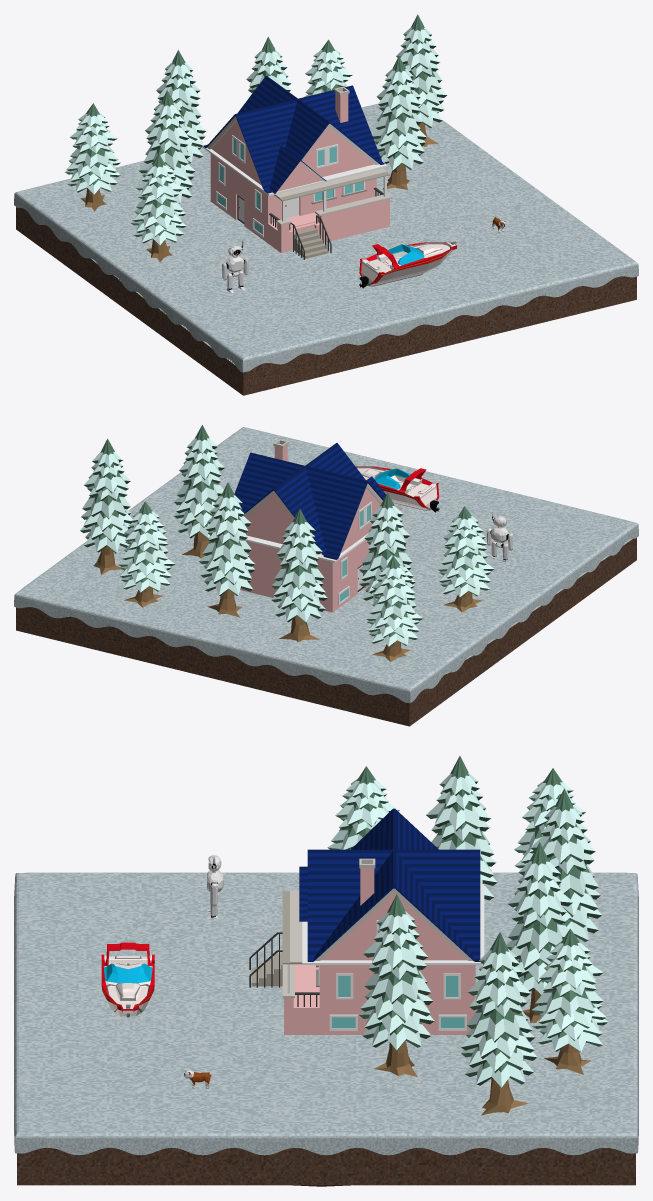
3 renders of one model, top to bottom at view 1: azimuth 30°, elevation 25°; view 2: azimuth 150°, elevation 25°; view 3: azimuth 270°, elevation 25°, orthographic. The views are drawn at different scales.
Visible parts, largest first — view 1: Cube.003, Cube.313, VEHICLES_BOAT, OBJRANDOM_PLATZEEBOT; view 2: Cube.003, Cube.313, VEHICLES_BOAT, OBJRANDOM_PLATZEEBOT; view 3: Cube.003, Cube.313, VEHICLES_BOAT, OBJRANDOM_PLATZEEBOT.
Boxes of the visible parts, <box> form: Cube.003: <box>14,14,638,395</box>; Cube.313: <box>202,76,392,259</box>; VEHICLES_BOAT: <box>359,241,456,288</box>; OBJRANDOM_PLATZEEBOT: <box>222,241,248,293</box>; Cube.003: <box>14,425,638,726</box>; Cube.313: <box>234,439,405,612</box>; VEHICLES_BOAT: <box>355,466,439,512</box>; OBJRANDOM_PLATZEEBOT: <box>486,511,513,562</box>; Cube.003: <box>14,756,638,1185</box>; Cube.313: <box>249,808,484,1034</box>; VEHICLES_BOAT: <box>101,942,154,1017</box>; OBJRANDOM_PLATZEEBOT: <box>205,855,223,919</box>.
Bounding box in the file's own units: 4040 × 1758 × 4040.
35 materials, 3 textured.
